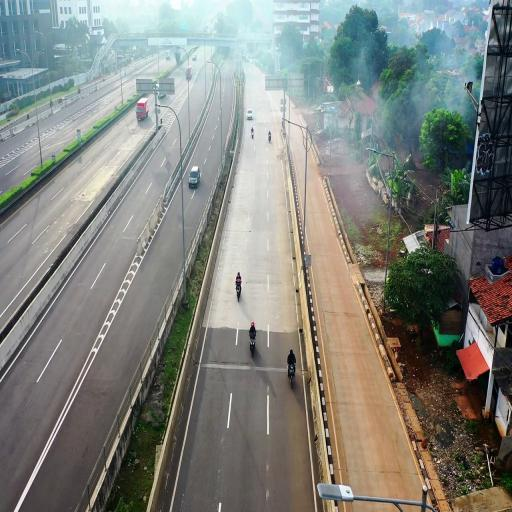vehicle: (188, 167, 200, 189)
